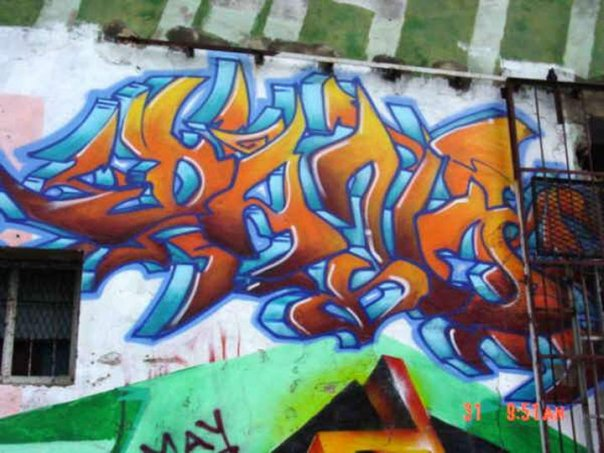graffity: (2, 45, 603, 404), (1, 324, 593, 449), (125, 406, 245, 453)
